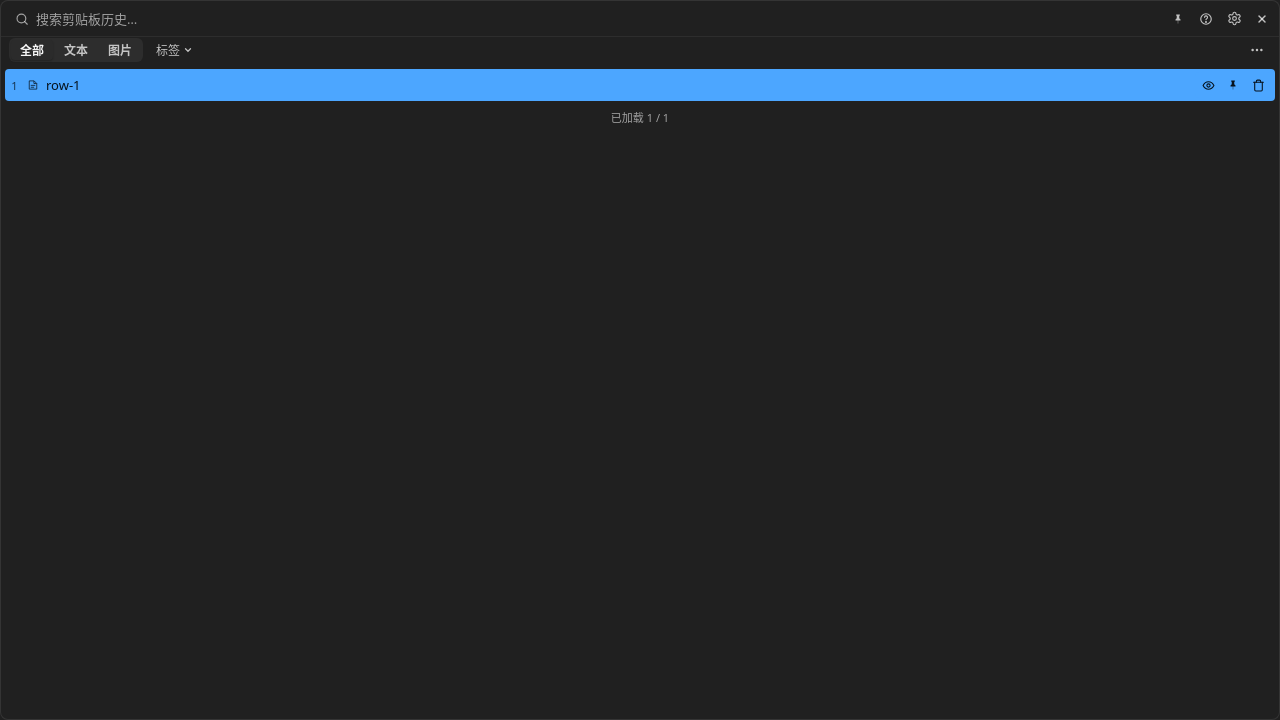
it: live history list › does not reopen closed details when their delayed request resolves
Click the button titled "查看详情 (Space)" at {"x": 1208, "y": 85}, box [1196,73,1220,97]
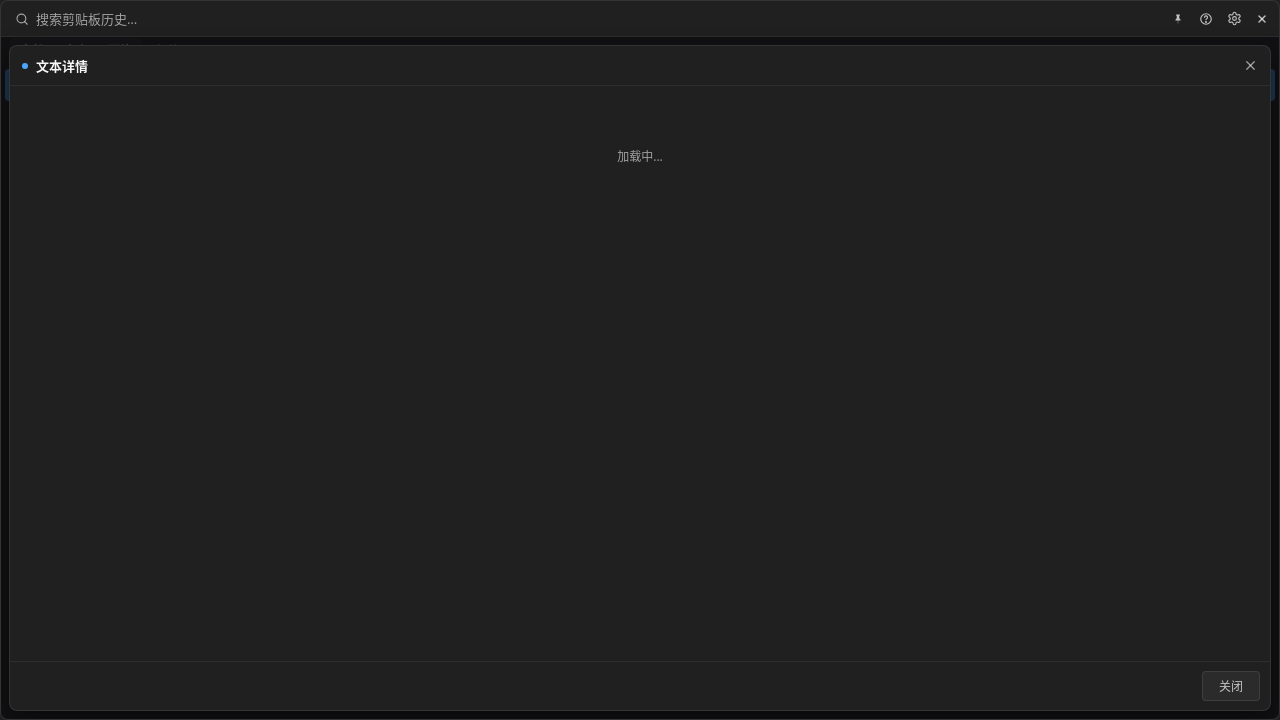
Press Escape
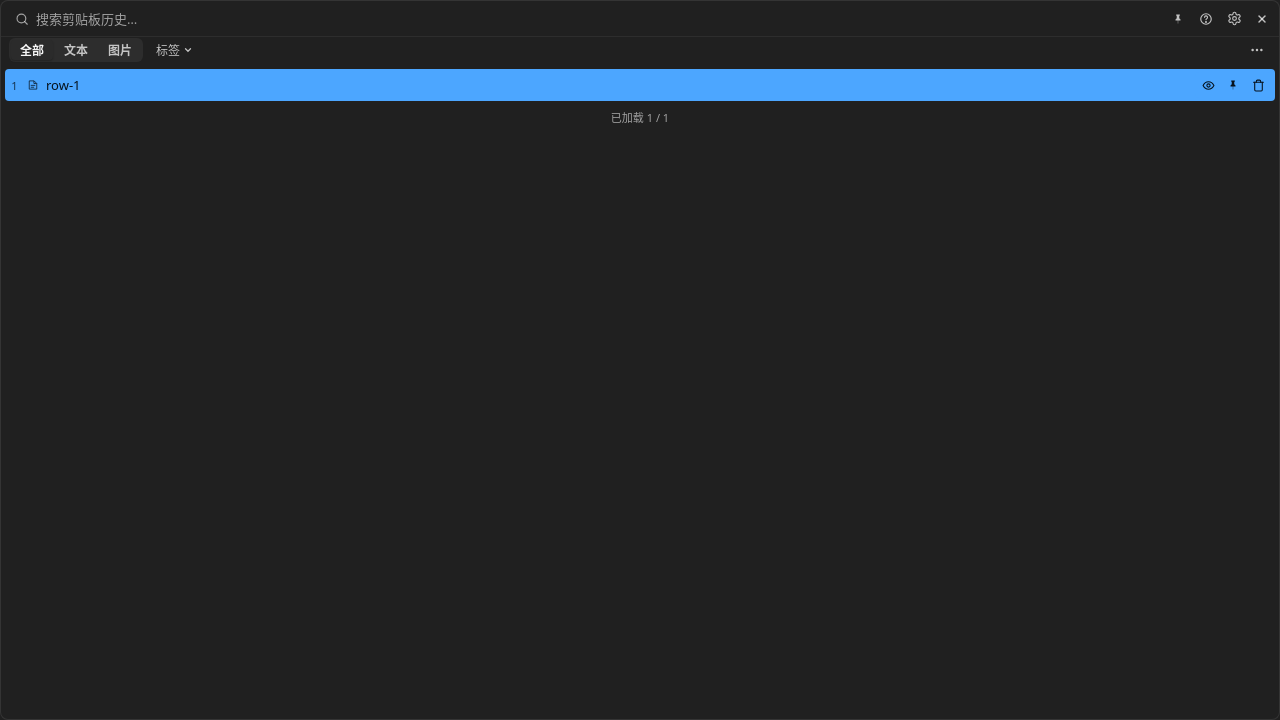
Result: the dialog with class "detail-panel" is gone
